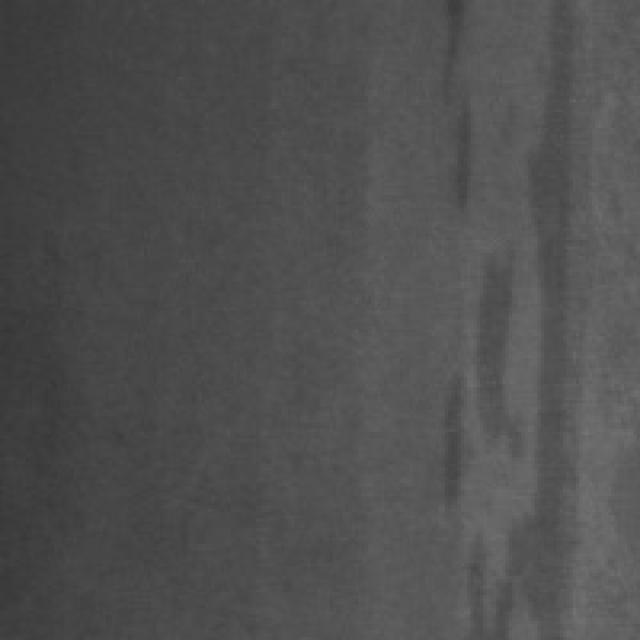inclusion: (515, 0, 585, 630), (432, 230, 522, 506), (432, 0, 483, 211), (461, 528, 525, 634)
